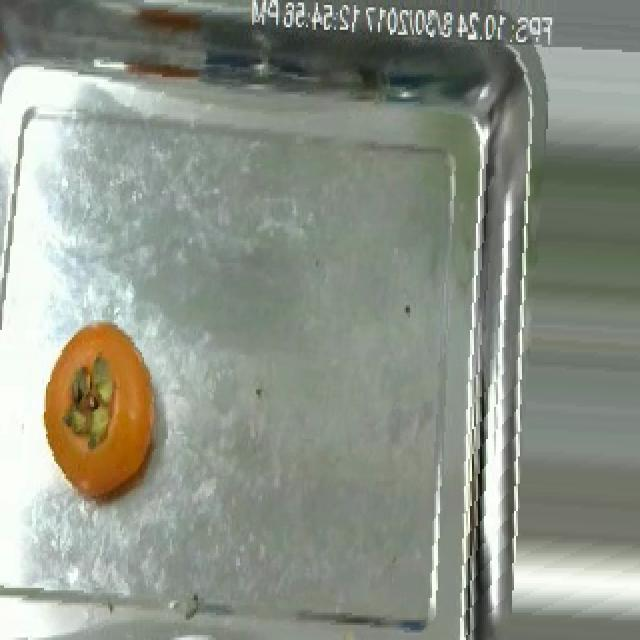Fruit: (30, 305, 170, 516)
